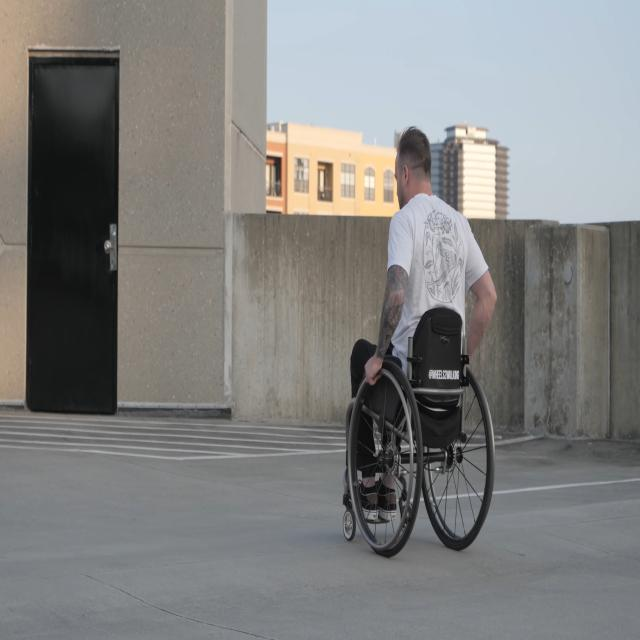wheelchairs: (342, 305, 494, 559)
